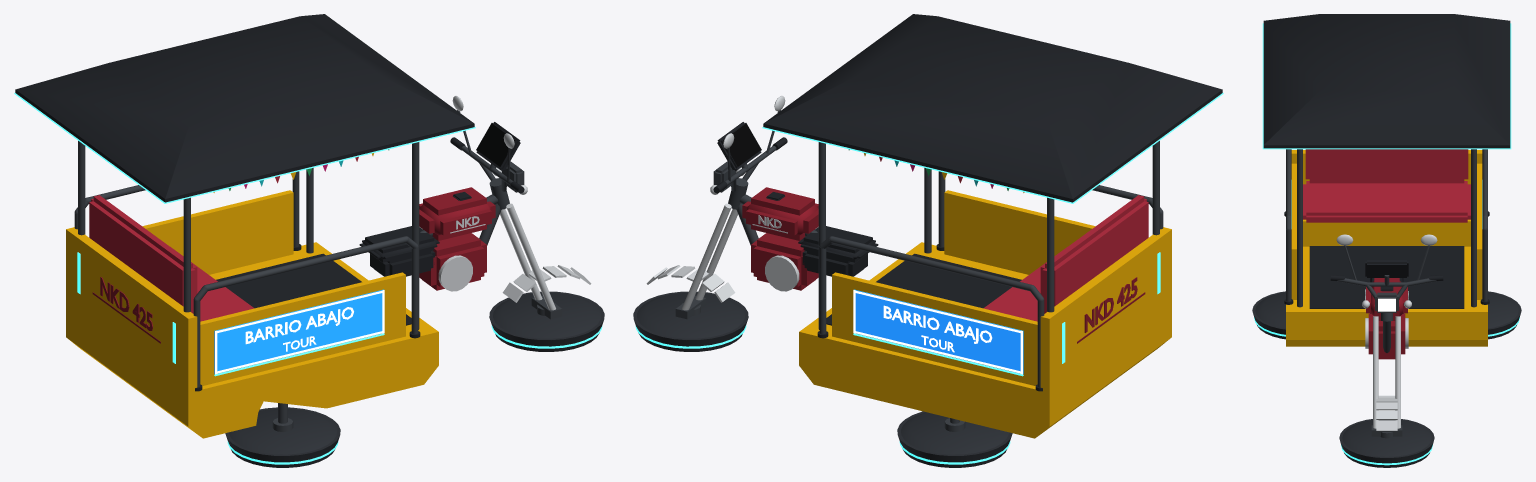
Rendered from mototaxi-barrio-abajo.glb.
3 renders of one model, left to right at view 1: azimuth 30°, elevation 25°; view 2: azimuth 150°, elevation 25°; view 3: azimuth 270°, elevation 25°, orthographic. The views are drawn at different scales.
Parts seen in each view (by area): view 1: Mototaxi_NegroMate, Mototaxi_CarroceriaAmarilla, Mototaxi_CarcasaPropulsor, Mototaxi_TuboMetal, Mototaxi_CojinRojo, Mototaxi_LetreroAzul, Mototaxi_TanqueVinotinto, Mototaxi_Cromo, Mototaxi_NeonCyan, Mototaxi_BlancoLuz, Mototaxi_PantallaNKD; view 2: Mototaxi_NegroMate, Mototaxi_CarroceriaAmarilla, Mototaxi_TuboMetal, Mototaxi_CarcasaPropulsor, Mototaxi_CojinRojo, Mototaxi_LetreroAzul, Mototaxi_TanqueVinotinto, Mototaxi_Cromo, Mototaxi_NeonCyan, Mototaxi_BlancoLuz, Mototaxi_PantallaNKD; view 3: Mototaxi_NegroMate, Mototaxi_CarroceriaAmarilla, Mototaxi_CojinRojo, Mototaxi_CarcasaPropulsor, Mototaxi_TuboMetal, Mototaxi_Cromo, Mototaxi_TanqueVinotinto, Mototaxi_NeonCyan.
Boxes of the visible parts, box(x1,y1,x2,y2) form: Mototaxi_NegroMate: box(15, 14, 524, 391); Mototaxi_CarroceriaAmarilla: box(66, 153, 438, 438); Mototaxi_CarcasaPropulsor: box(225, 291, 604, 467); Mototaxi_TuboMetal: box(74, 110, 562, 431); Mototaxi_CojinRojo: box(89, 156, 358, 321); Mototaxi_LetreroAzul: box(214, 289, 383, 373); Mototaxi_TanqueVinotinto: box(92, 187, 495, 343); Mototaxi_Cromo: box(438, 96, 591, 310); Mototaxi_NeonCyan: box(14, 93, 602, 464); Mototaxi_BlancoLuz: box(215, 172, 524, 374); Mototaxi_PantallaNKD: box(476, 123, 514, 166); Mototaxi_NegroMate: box(713, 14, 1222, 391); Mototaxi_CarroceriaAmarilla: box(799, 153, 1171, 438); Mototaxi_TuboMetal: box(675, 110, 1163, 431); Mototaxi_CarcasaPropulsor: box(633, 291, 1012, 467); Mototaxi_CojinRojo: box(879, 156, 1148, 321); Mototaxi_LetreroAzul: box(854, 289, 1023, 373); Mototaxi_TanqueVinotinto: box(742, 187, 1145, 343); Mototaxi_Cromo: box(646, 96, 799, 310); Mototaxi_NeonCyan: box(635, 93, 1223, 464); Mototaxi_BlancoLuz: box(713, 172, 1022, 374); Mototaxi_PantallaNKD: box(723, 123, 761, 166); Mototaxi_NegroMate: box(1263, 14, 1510, 313); Mototaxi_CarroceriaAmarilla: box(1286, 150, 1487, 346); Mototaxi_CojinRojo: box(1303, 149, 1470, 222); Mototaxi_CarcasaPropulsor: box(1252, 291, 1521, 467); Mototaxi_TuboMetal: box(1286, 149, 1487, 438); Mototaxi_Cromo: box(1336, 234, 1437, 430); Mototaxi_TanqueVinotinto: box(1366, 278, 1407, 359); Mototaxi_NeonCyan: box(1254, 23, 1519, 465).
Bounding box in the file's own units: 3.44 × 2.22 × 1.92.
